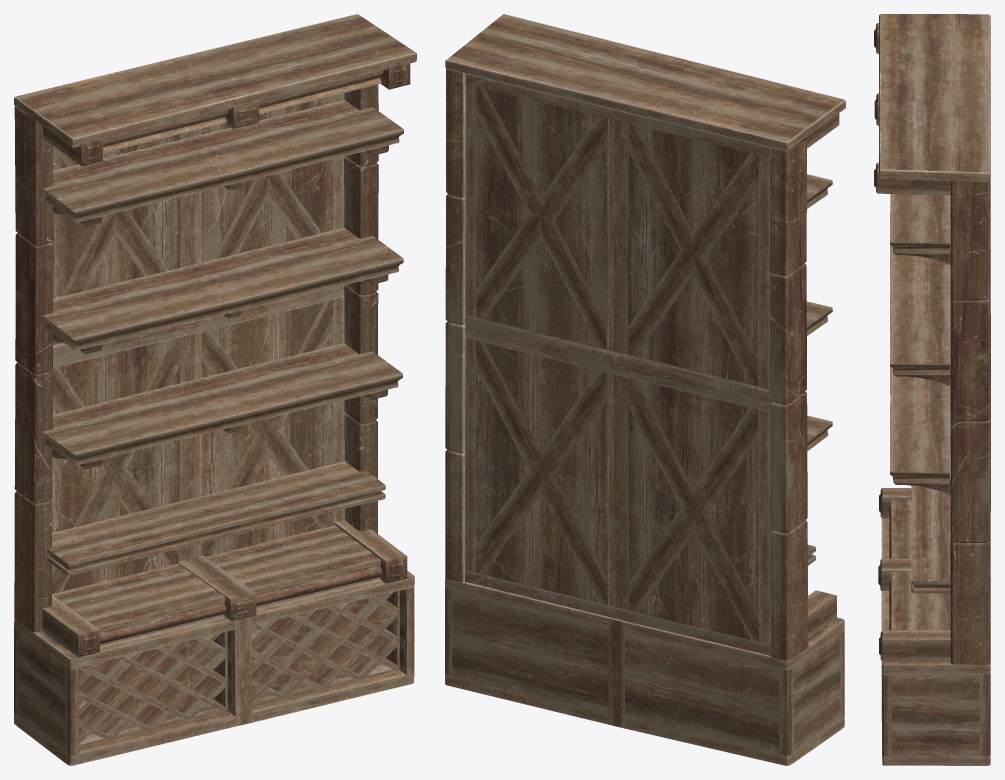
The picture shows the model from 3 angles, left to right: view 1: azimuth 30°, elevation 25°; view 2: azimuth 150°, elevation 25°; view 3: azimuth 270°, elevation 25°; orthographic projection. The views are drawn at different scales.
Visible parts, largest first — view 1: SM_DR_Bookshelf_03_LOD0; view 2: SM_DR_Bookshelf_03_LOD0; view 3: SM_DR_Bookshelf_03_LOD0.
Part boxes in pixels (x1=…): SM_DR_Bookshelf_03_LOD0: x1=14, y1=14, x2=416, y2=765; SM_DR_Bookshelf_03_LOD0: x1=445, y1=14, x2=845, y2=765; SM_DR_Bookshelf_03_LOD0: x1=874, y1=14, x2=990, y2=765.
Bounding box in the file's own units: 2.43 × 4.24 × 0.7526.
Materials: 1 (1 with a texture image).
